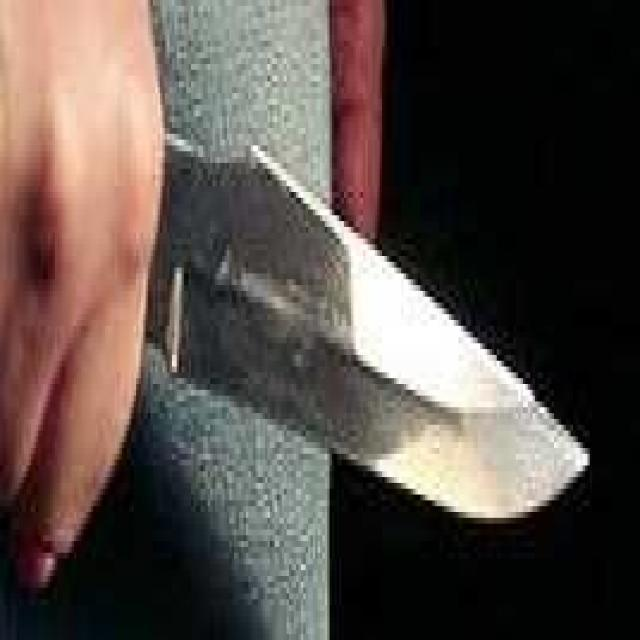knife: (29, 98, 589, 518)
